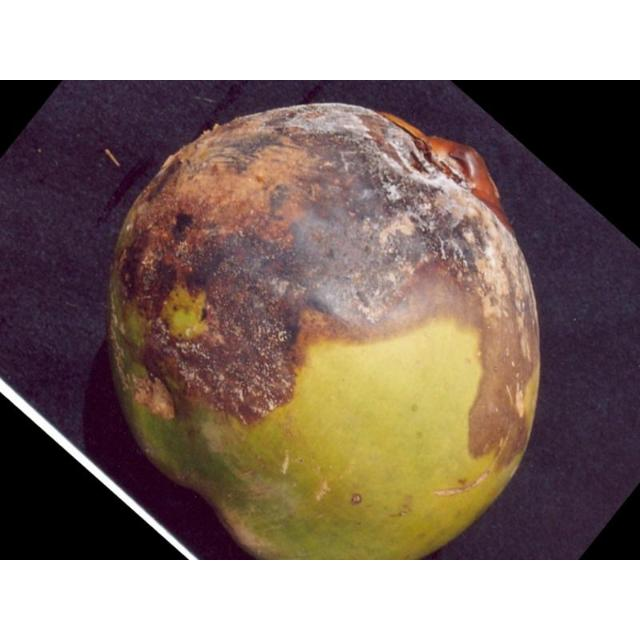damaged: (109, 104, 539, 559)
